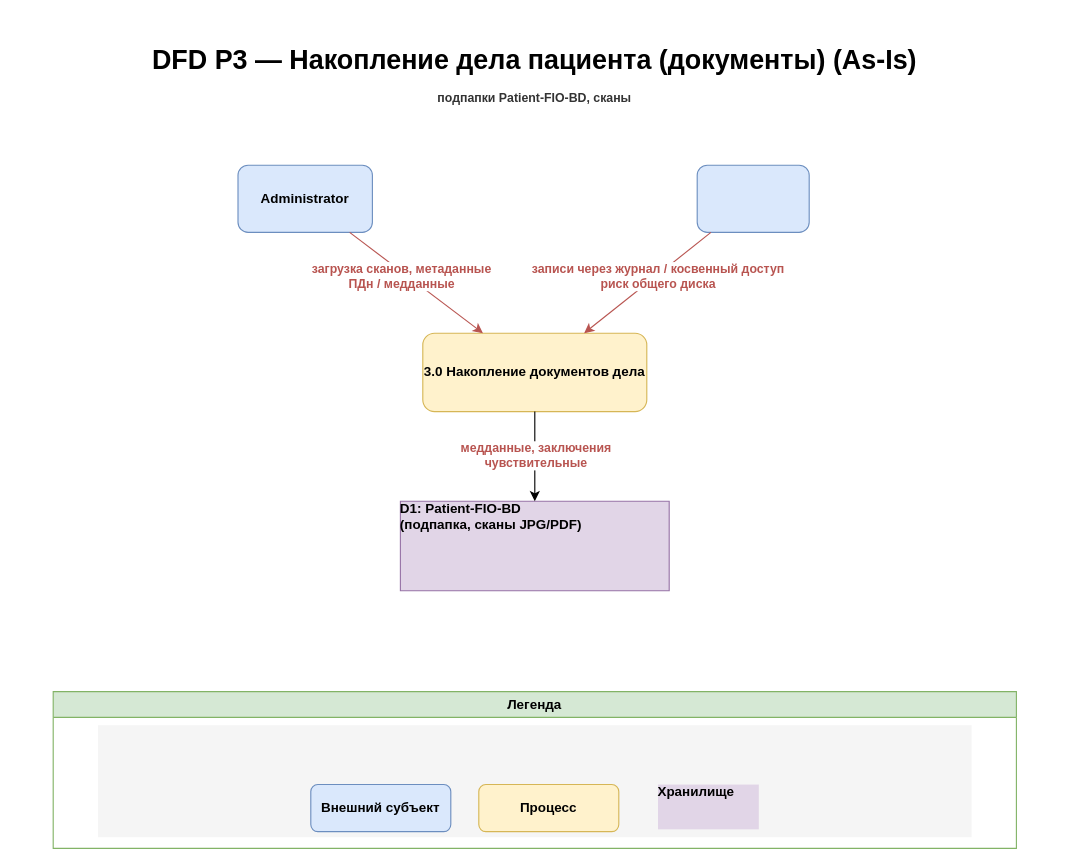
Some shapes in this 1068 by 868 pixel diagram are drawn without their labels. The shapes that lost their labels are listed below. From the top down, each one's box as (x1, y1, x2, y2) in pixels, then its label:
(696, 164, 809, 232): Doctor
(97, 725, 971, 837): Легенда: Красный — ПДн/медданные. Риск PRV-006: общий диск без RBAC на объекты.
